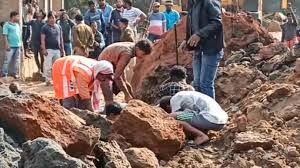arm: (185, 1, 222, 51), (39, 27, 48, 56), (2, 26, 11, 51)
footwear: (10, 71, 20, 79)
glove: (186, 32, 201, 49), (41, 47, 49, 56)
human: (0, 93, 83, 168), (48, 35, 112, 121), (181, 0, 229, 98), (0, 8, 25, 81), (112, 0, 146, 41), (96, 0, 116, 45), (56, 6, 75, 51)
leg: (200, 52, 220, 97), (188, 52, 203, 90), (0, 46, 13, 79)
nohelmet: (7, 9, 20, 21)
novest: (3, 20, 21, 46), (148, 11, 165, 35), (121, 7, 141, 27), (44, 23, 60, 47), (85, 9, 100, 24)
vest: (55, 53, 98, 98), (17, 139, 62, 167), (147, 11, 165, 35), (98, 6, 113, 30)
